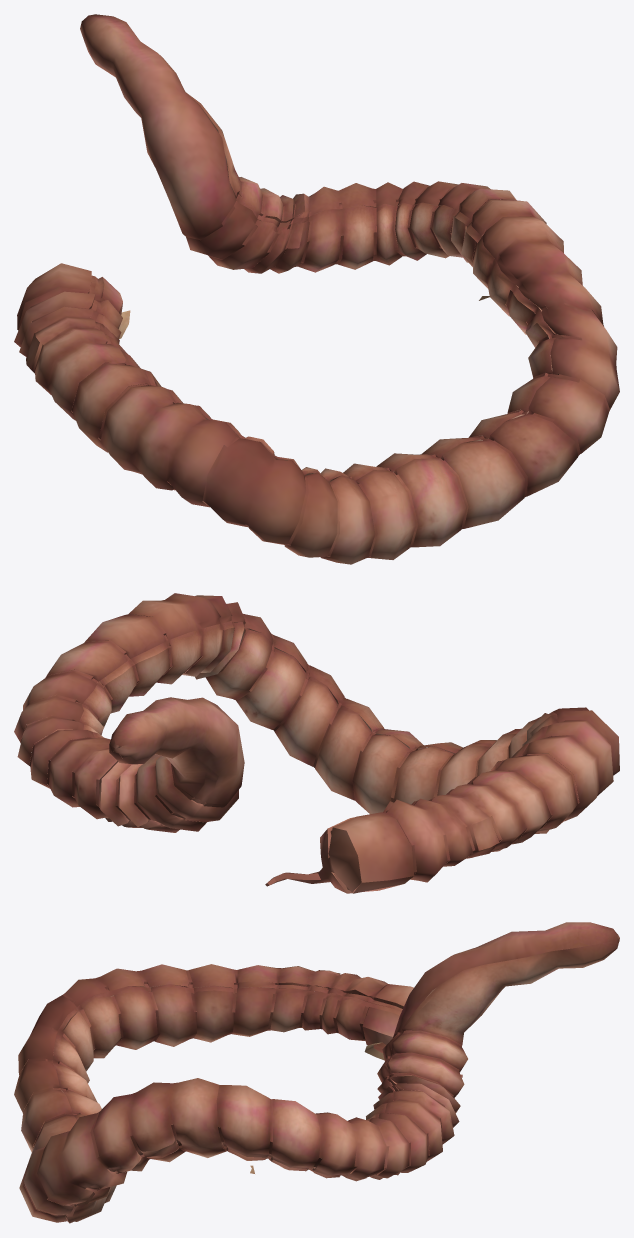
File: LargeIntestinefbx.fbx
The picture shows the model from 3 angles, top to bottom: view 1: azimuth 30°, elevation 25°; view 2: azimuth 150°, elevation 25°; view 3: azimuth 270°, elevation 25°; orthographic projection. The views are drawn at different scales.
Visible parts, largest first — view 1: DigestiveSystem001_Digestive_System_0; view 2: DigestiveSystem001_Digestive_System_0; view 3: DigestiveSystem001_Digestive_System_0.
Boxes of the visible parts, x1,y1,x2,y2 form: DigestiveSystem001_Digestive_System_0: (14, 14, 619, 564); DigestiveSystem001_Digestive_System_0: (14, 593, 619, 893); DigestiveSystem001_Digestive_System_0: (14, 922, 619, 1223).
Size of the model in its own units: 2271 by 1383 by 2722.
1 material, 1 textured.
